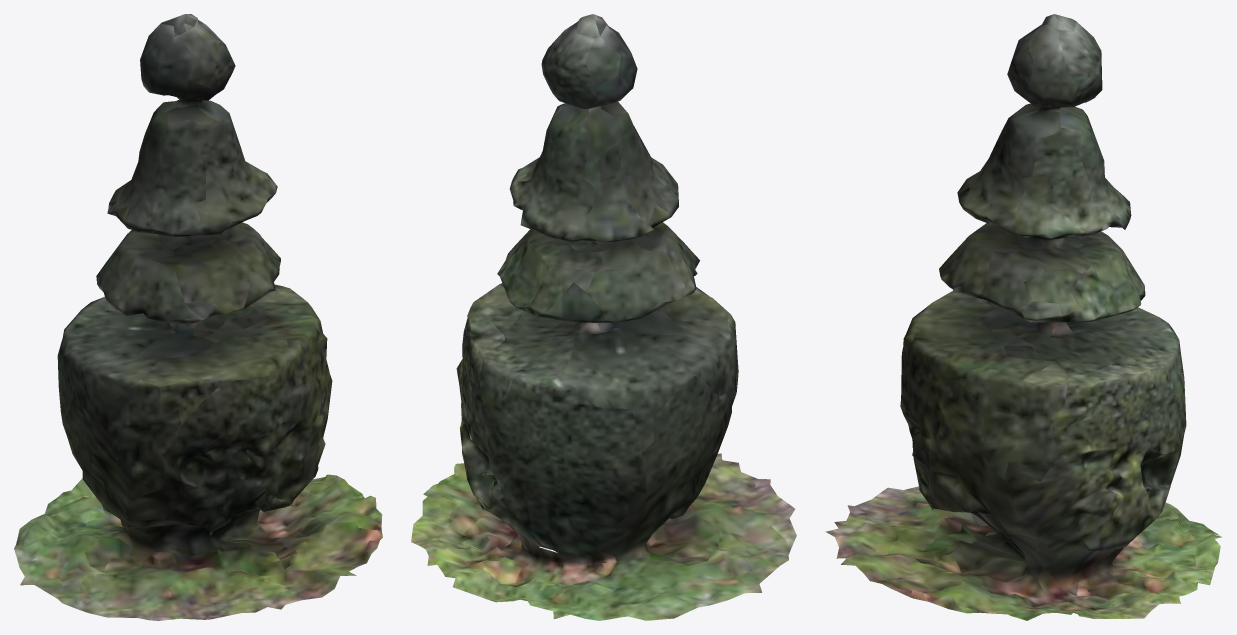
The model's file is topiaire_mobile.glb.
3 views of the same model, side by side, from view 1: azimuth 30°, elevation 25°; view 2: azimuth 150°, elevation 25°; view 3: azimuth 270°, elevation 25° (orthographic). The views are drawn at different scales.
Visible parts, largest first — view 1: mesh_main_0; view 2: mesh_main_0; view 3: mesh_main_0.
Part boxes in pixels (box(x1,y1,x2,y2)): mesh_main_0: box(14, 14, 382, 620); mesh_main_0: box(411, 14, 796, 620); mesh_main_0: box(825, 14, 1221, 620).
Bounding box in the file's own units: 1.25 × 1.93 × 1.27.
Materials: 1 (1 with a texture image).
